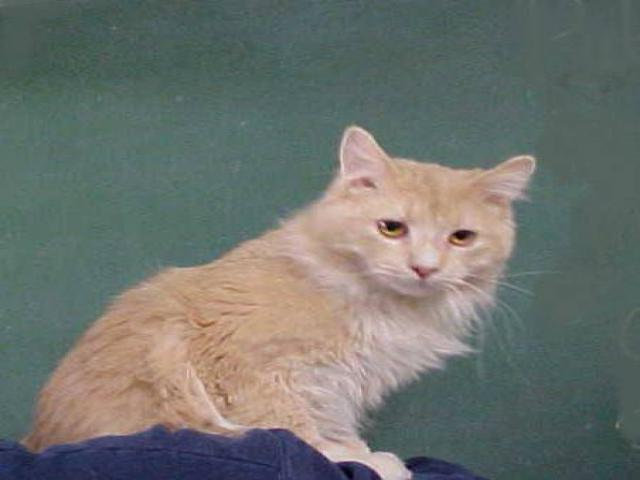cat: (9, 126, 539, 476)
